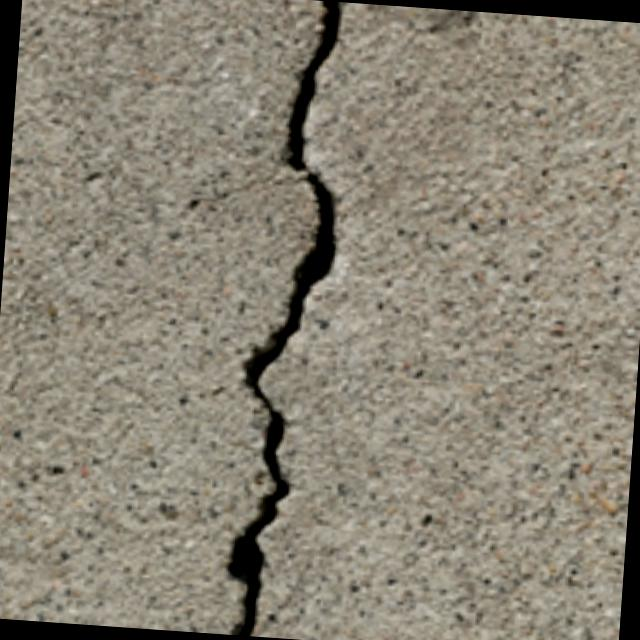crack: (217, 0, 355, 639)
